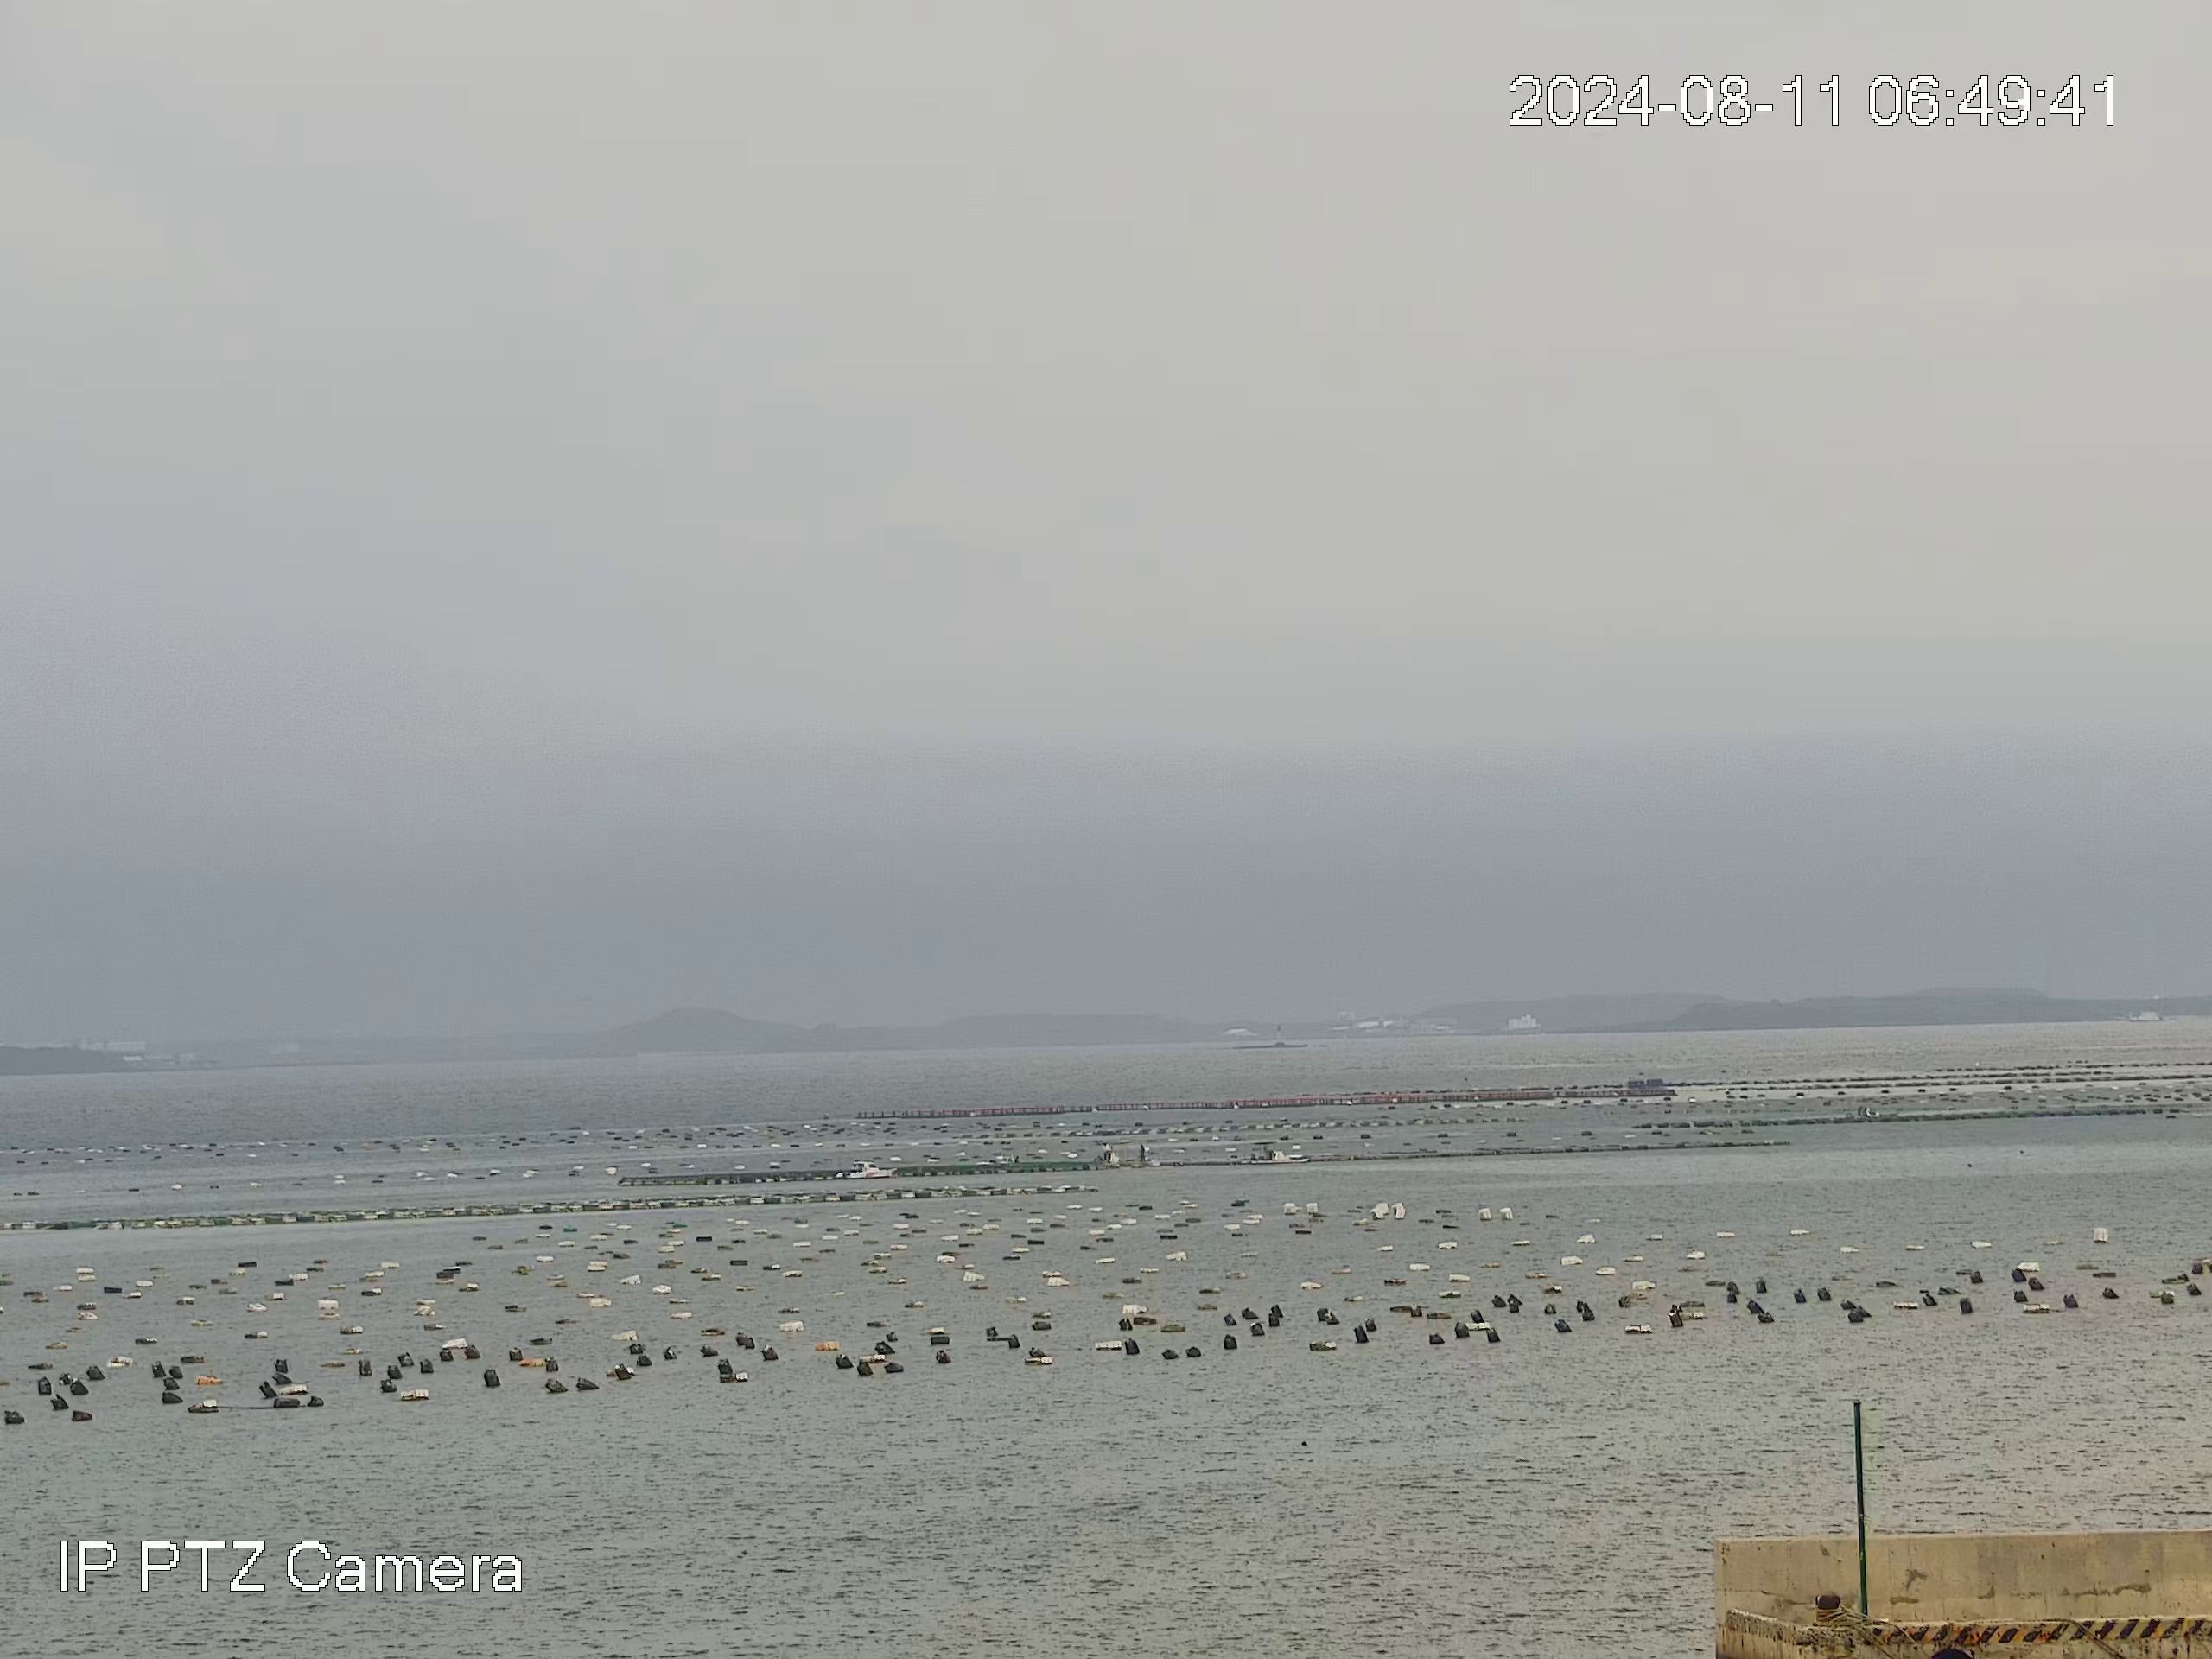boat: (835, 1160, 892, 1179), (1247, 1147, 1287, 1165)
